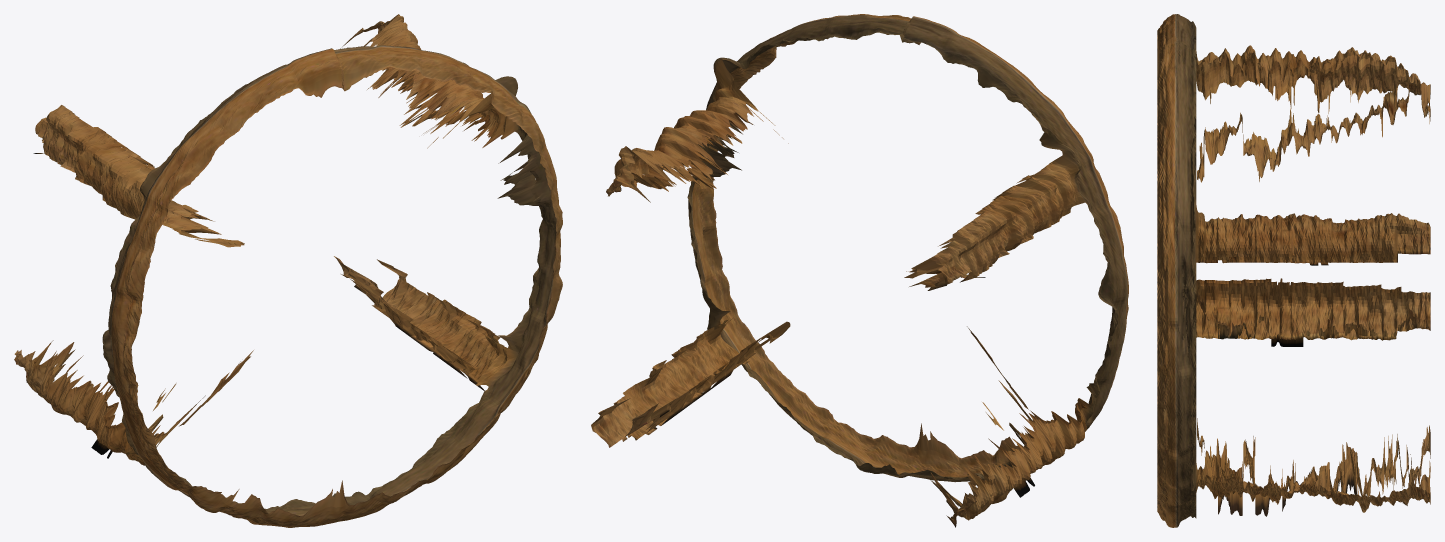
The picture shows the model from 3 angles, left to right: view 1: azimuth 30°, elevation 25°; view 2: azimuth 150°, elevation 25°; view 3: azimuth 270°, elevation 25°; orthographic projection. The views are drawn at different scales.
Parts seen in each view (by area): view 1: geometry_0; view 2: geometry_0; view 3: geometry_0.
Boxes of the visible parts, bbox=[...] form: geometry_0: bbox=[14, 14, 562, 527]; geometry_0: bbox=[591, 14, 1128, 527]; geometry_0: bbox=[1157, 14, 1430, 527].
Size of the model in its own units: 1.86 by 1.89 by 1.01.
1 material, 1 textured.
